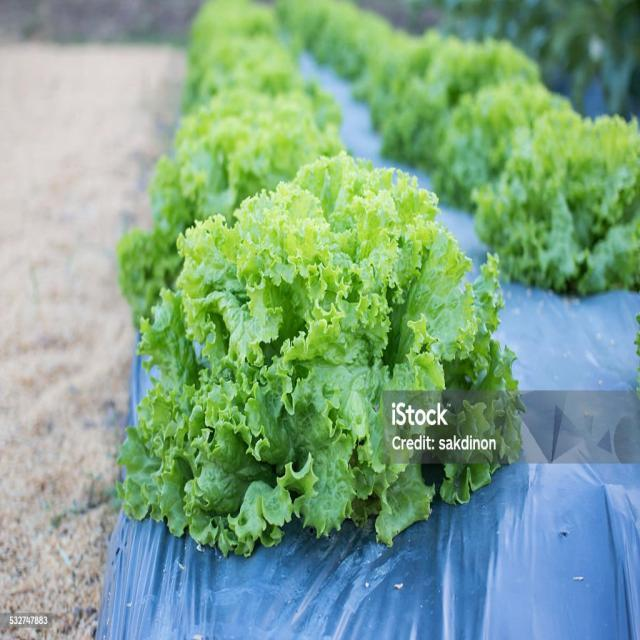Lettuce-Ready-to-Harvest: (141, 164, 511, 535), (473, 118, 640, 294)
